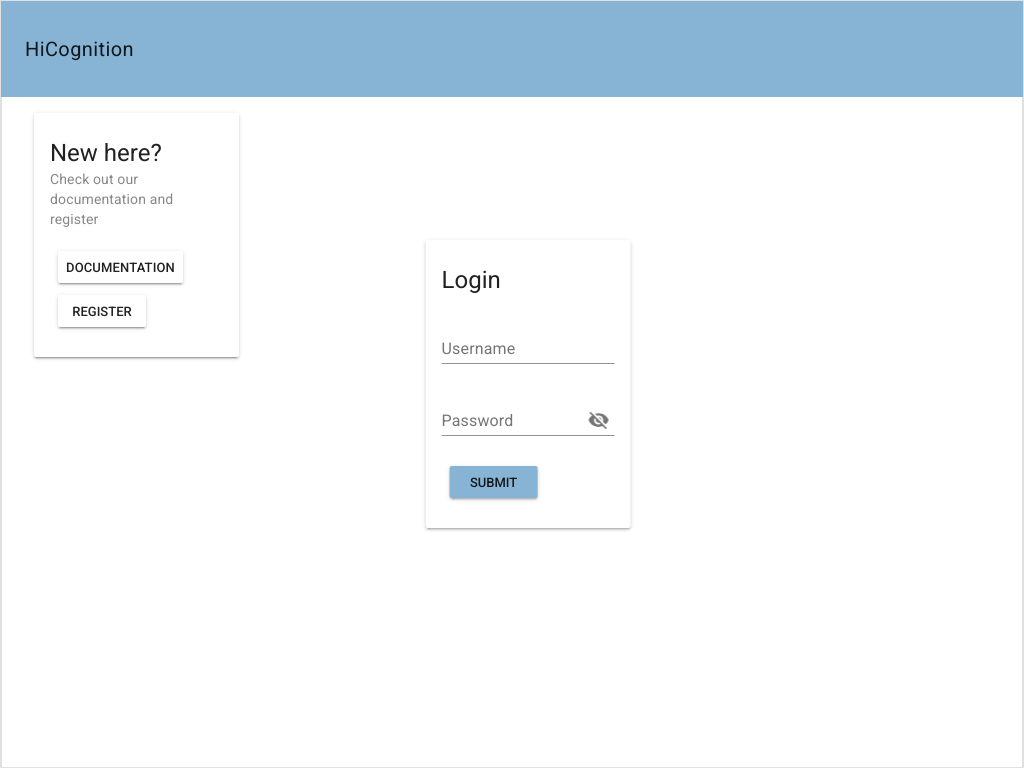
Test: Test Login › blocks login when username/password are not in db
// type username
Type "dummy" into the field labelled "Username" at coordinates (549, 348), box left=442, top=332, right=655, bottom=364
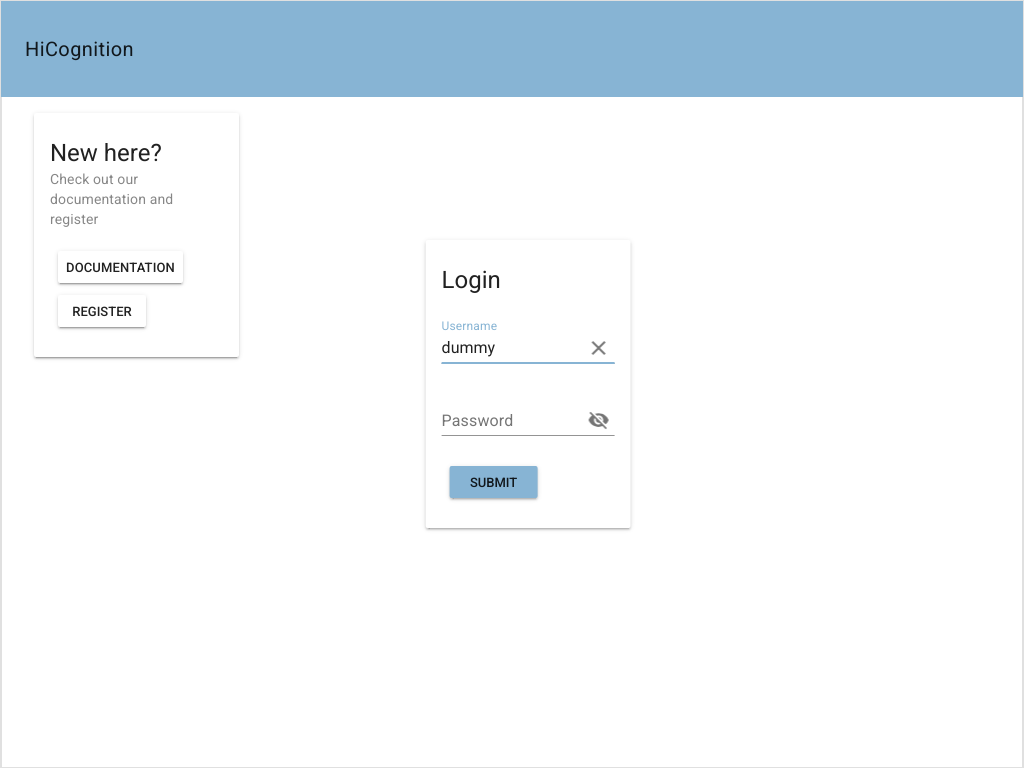
Type "dummy" into the password field labelled "Password" at coordinates (534, 420), box left=442, top=404, right=625, bottom=436
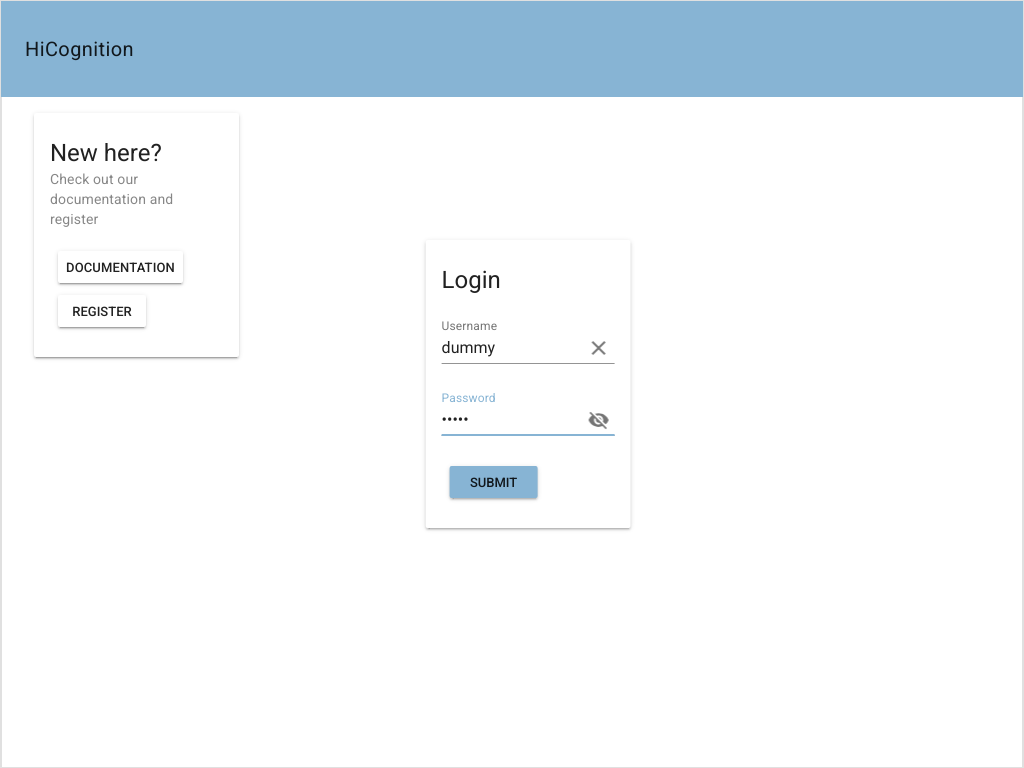
// click submit
Click the button "Submit" at coordinates (494, 482), box left=450, top=466, right=538, bottom=498
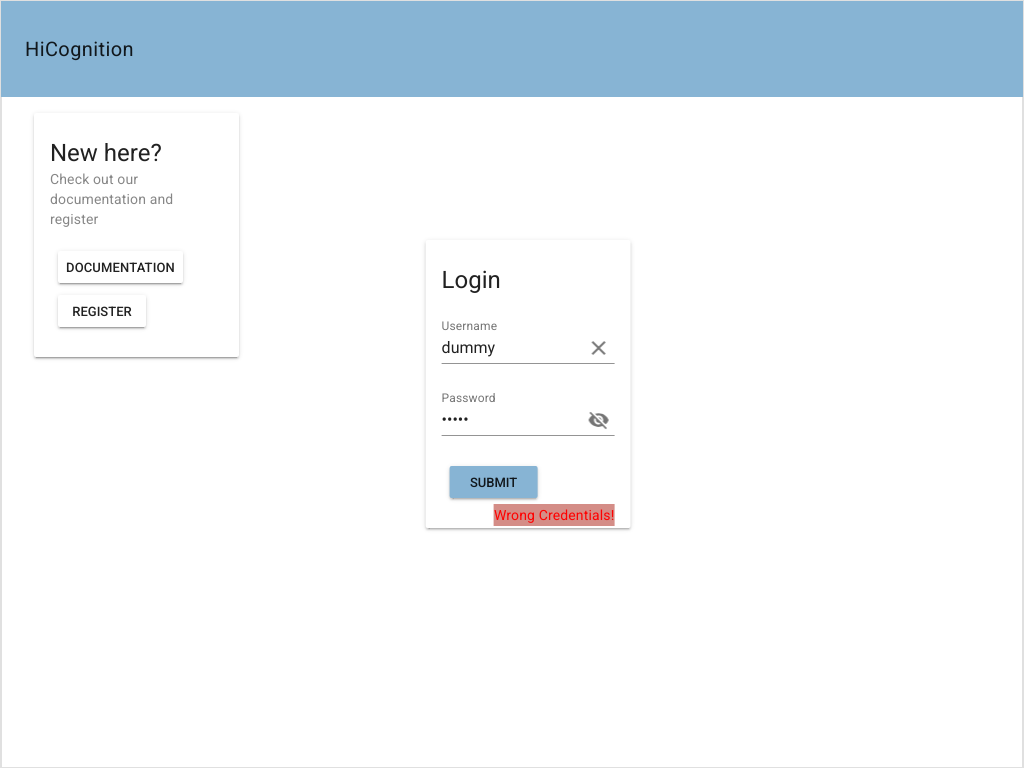
Expected: the text "Wrong Credentials" is shown, left=494, top=507, right=615, bottom=523
